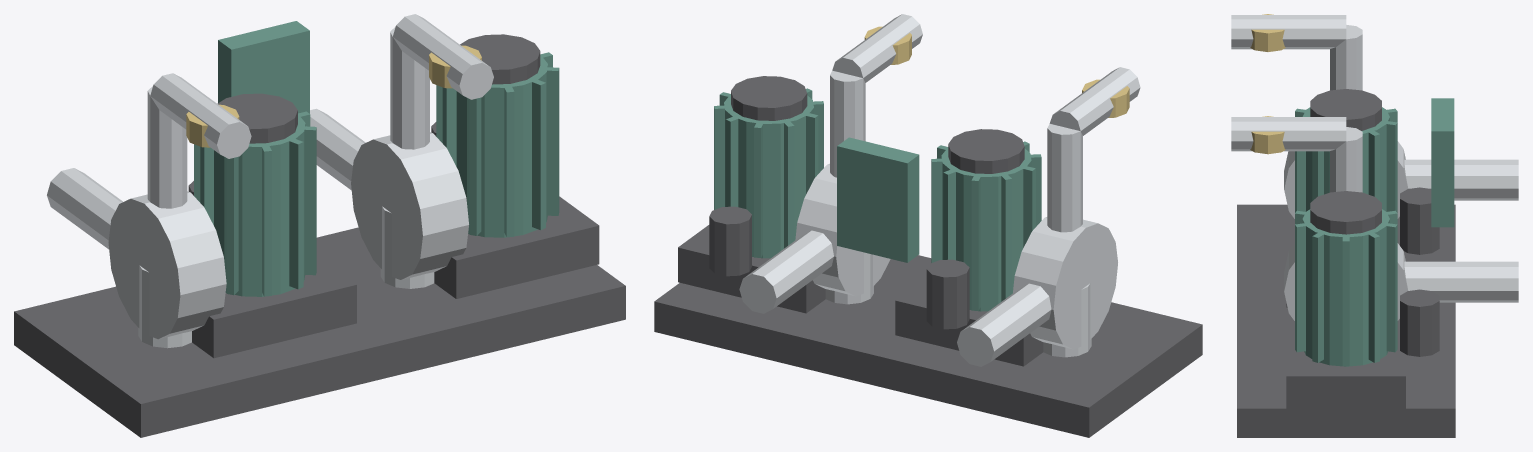
File: distillery-and-bonded-warehouse-pump-set-16317887__38677.glb
3 renders of one model, left to right at view 1: azimuth 30°, elevation 25°; view 2: azimuth 150°, elevation 25°; view 3: azimuth 270°, elevation 25°, orthographic. The views are drawn at different scales.
Visible parts, largest first — view 1: pump-set-iron, pump-set-steel, pump-set-paint, pump-set-brass; view 2: pump-set-iron, pump-set-steel, pump-set-paint, pump-set-brass; view 3: pump-set-iron, pump-set-paint, pump-set-steel, pump-set-brass.
Boxes of the visible parts, <box> form: pump-set-iron: <box>14,34,625,437</box>; pump-set-steel: <box>47,14,493,348</box>; pump-set-paint: <box>194,21,559,296</box>; pump-set-brass: <box>186,45,481,147</box>; pump-set-iron: <box>654,76,1202,437</box>; pump-set-steel: <box>739,14,1140,366</box>; pump-set-paint: <box>714,88,1041,311</box>; pump-set-brass: <box>864,26,1129,117</box>; pump-set-iron: <box>1237,89,1455,437</box>; pump-set-paint: <box>1295,98,1454,366</box>; pump-set-steel: <box>1231,15,1518,320</box>; pump-set-brass: <box>1250,14,1285,154</box>.
Bounding box in the file's own units: 2.11 × 1.22 × 1.25.
